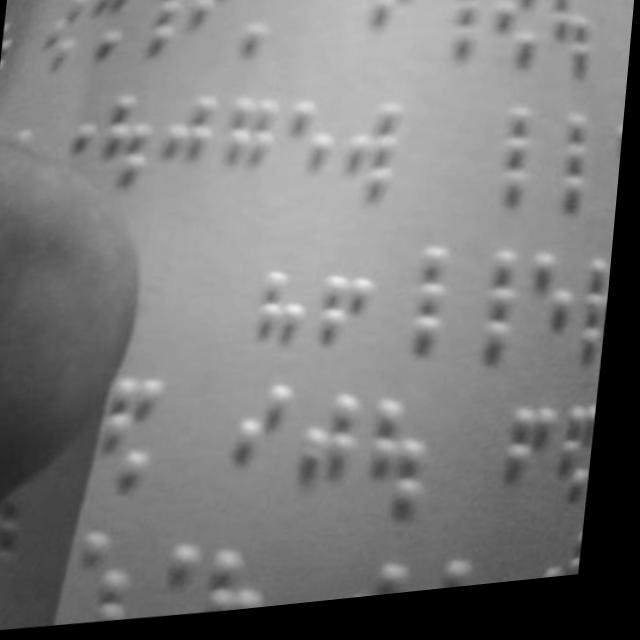braiile: (289, 391, 369, 529), (97, 364, 179, 498), (363, 398, 440, 532), (220, 382, 299, 511), (216, 93, 286, 219), (92, 92, 163, 214), (468, 116, 540, 231), (343, 103, 414, 219), (459, 256, 531, 370), (280, 100, 347, 222), (157, 97, 224, 219), (389, 250, 460, 364), (496, 409, 563, 528), (519, 258, 583, 378), (531, 122, 598, 227), (535, 0, 603, 92), (552, 407, 605, 519), (483, 0, 549, 83), (423, 0, 487, 81), (576, 264, 618, 378), (357, 0, 423, 71), (186, 0, 242, 71), (131, 0, 186, 70)
